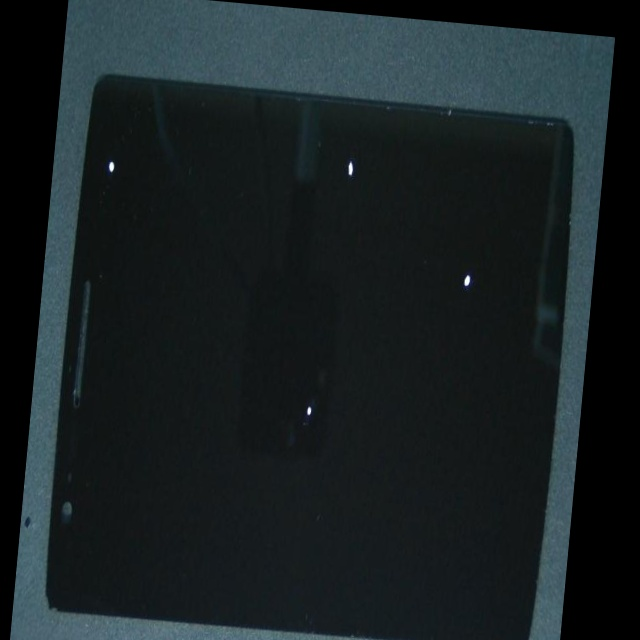stain: (118, 177, 441, 636), (272, 101, 607, 372), (152, 62, 488, 290), (93, 65, 150, 221)
